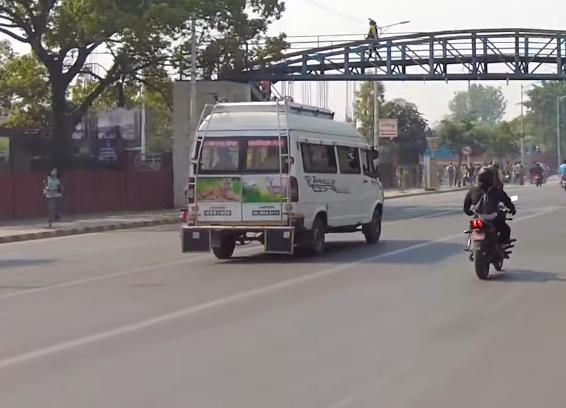bike: (465, 194, 519, 281)
micro_bus: (183, 96, 392, 265)
